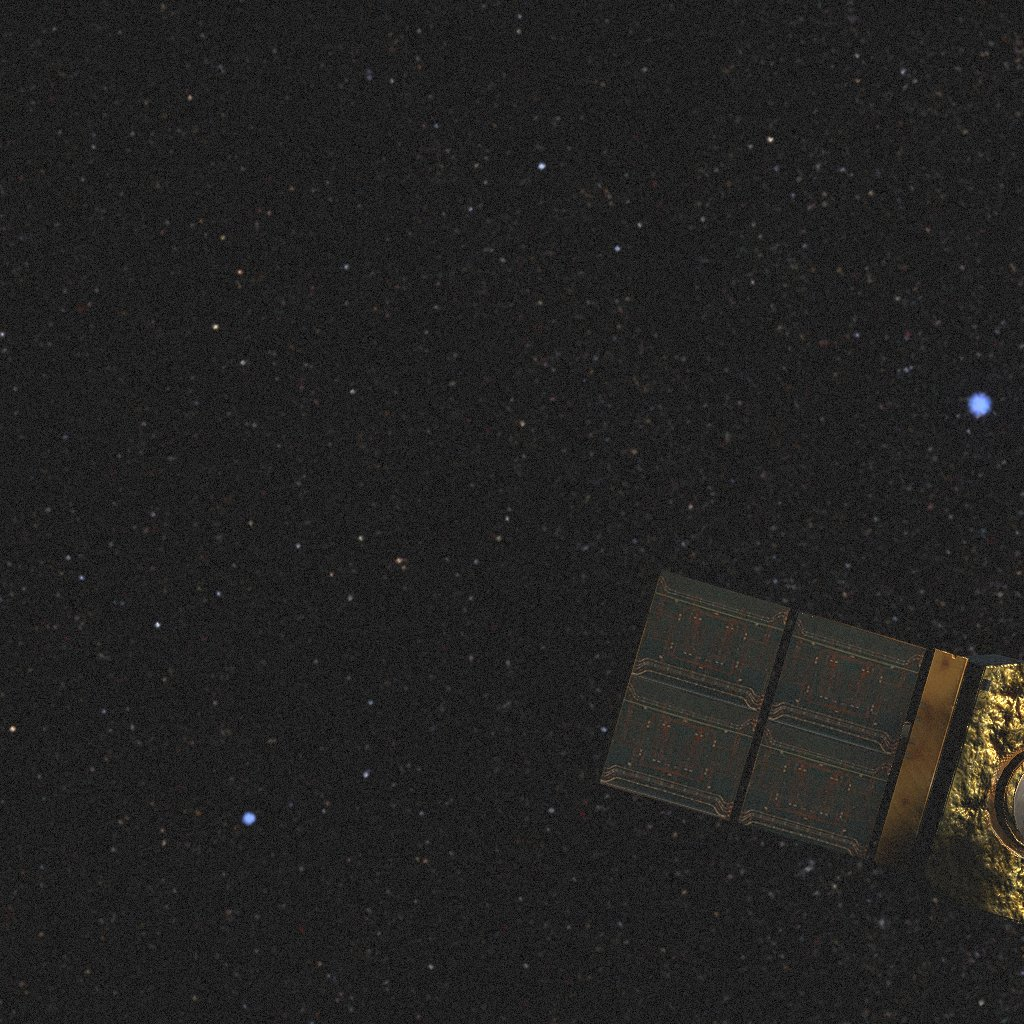soho: (597, 570, 1024, 925)
